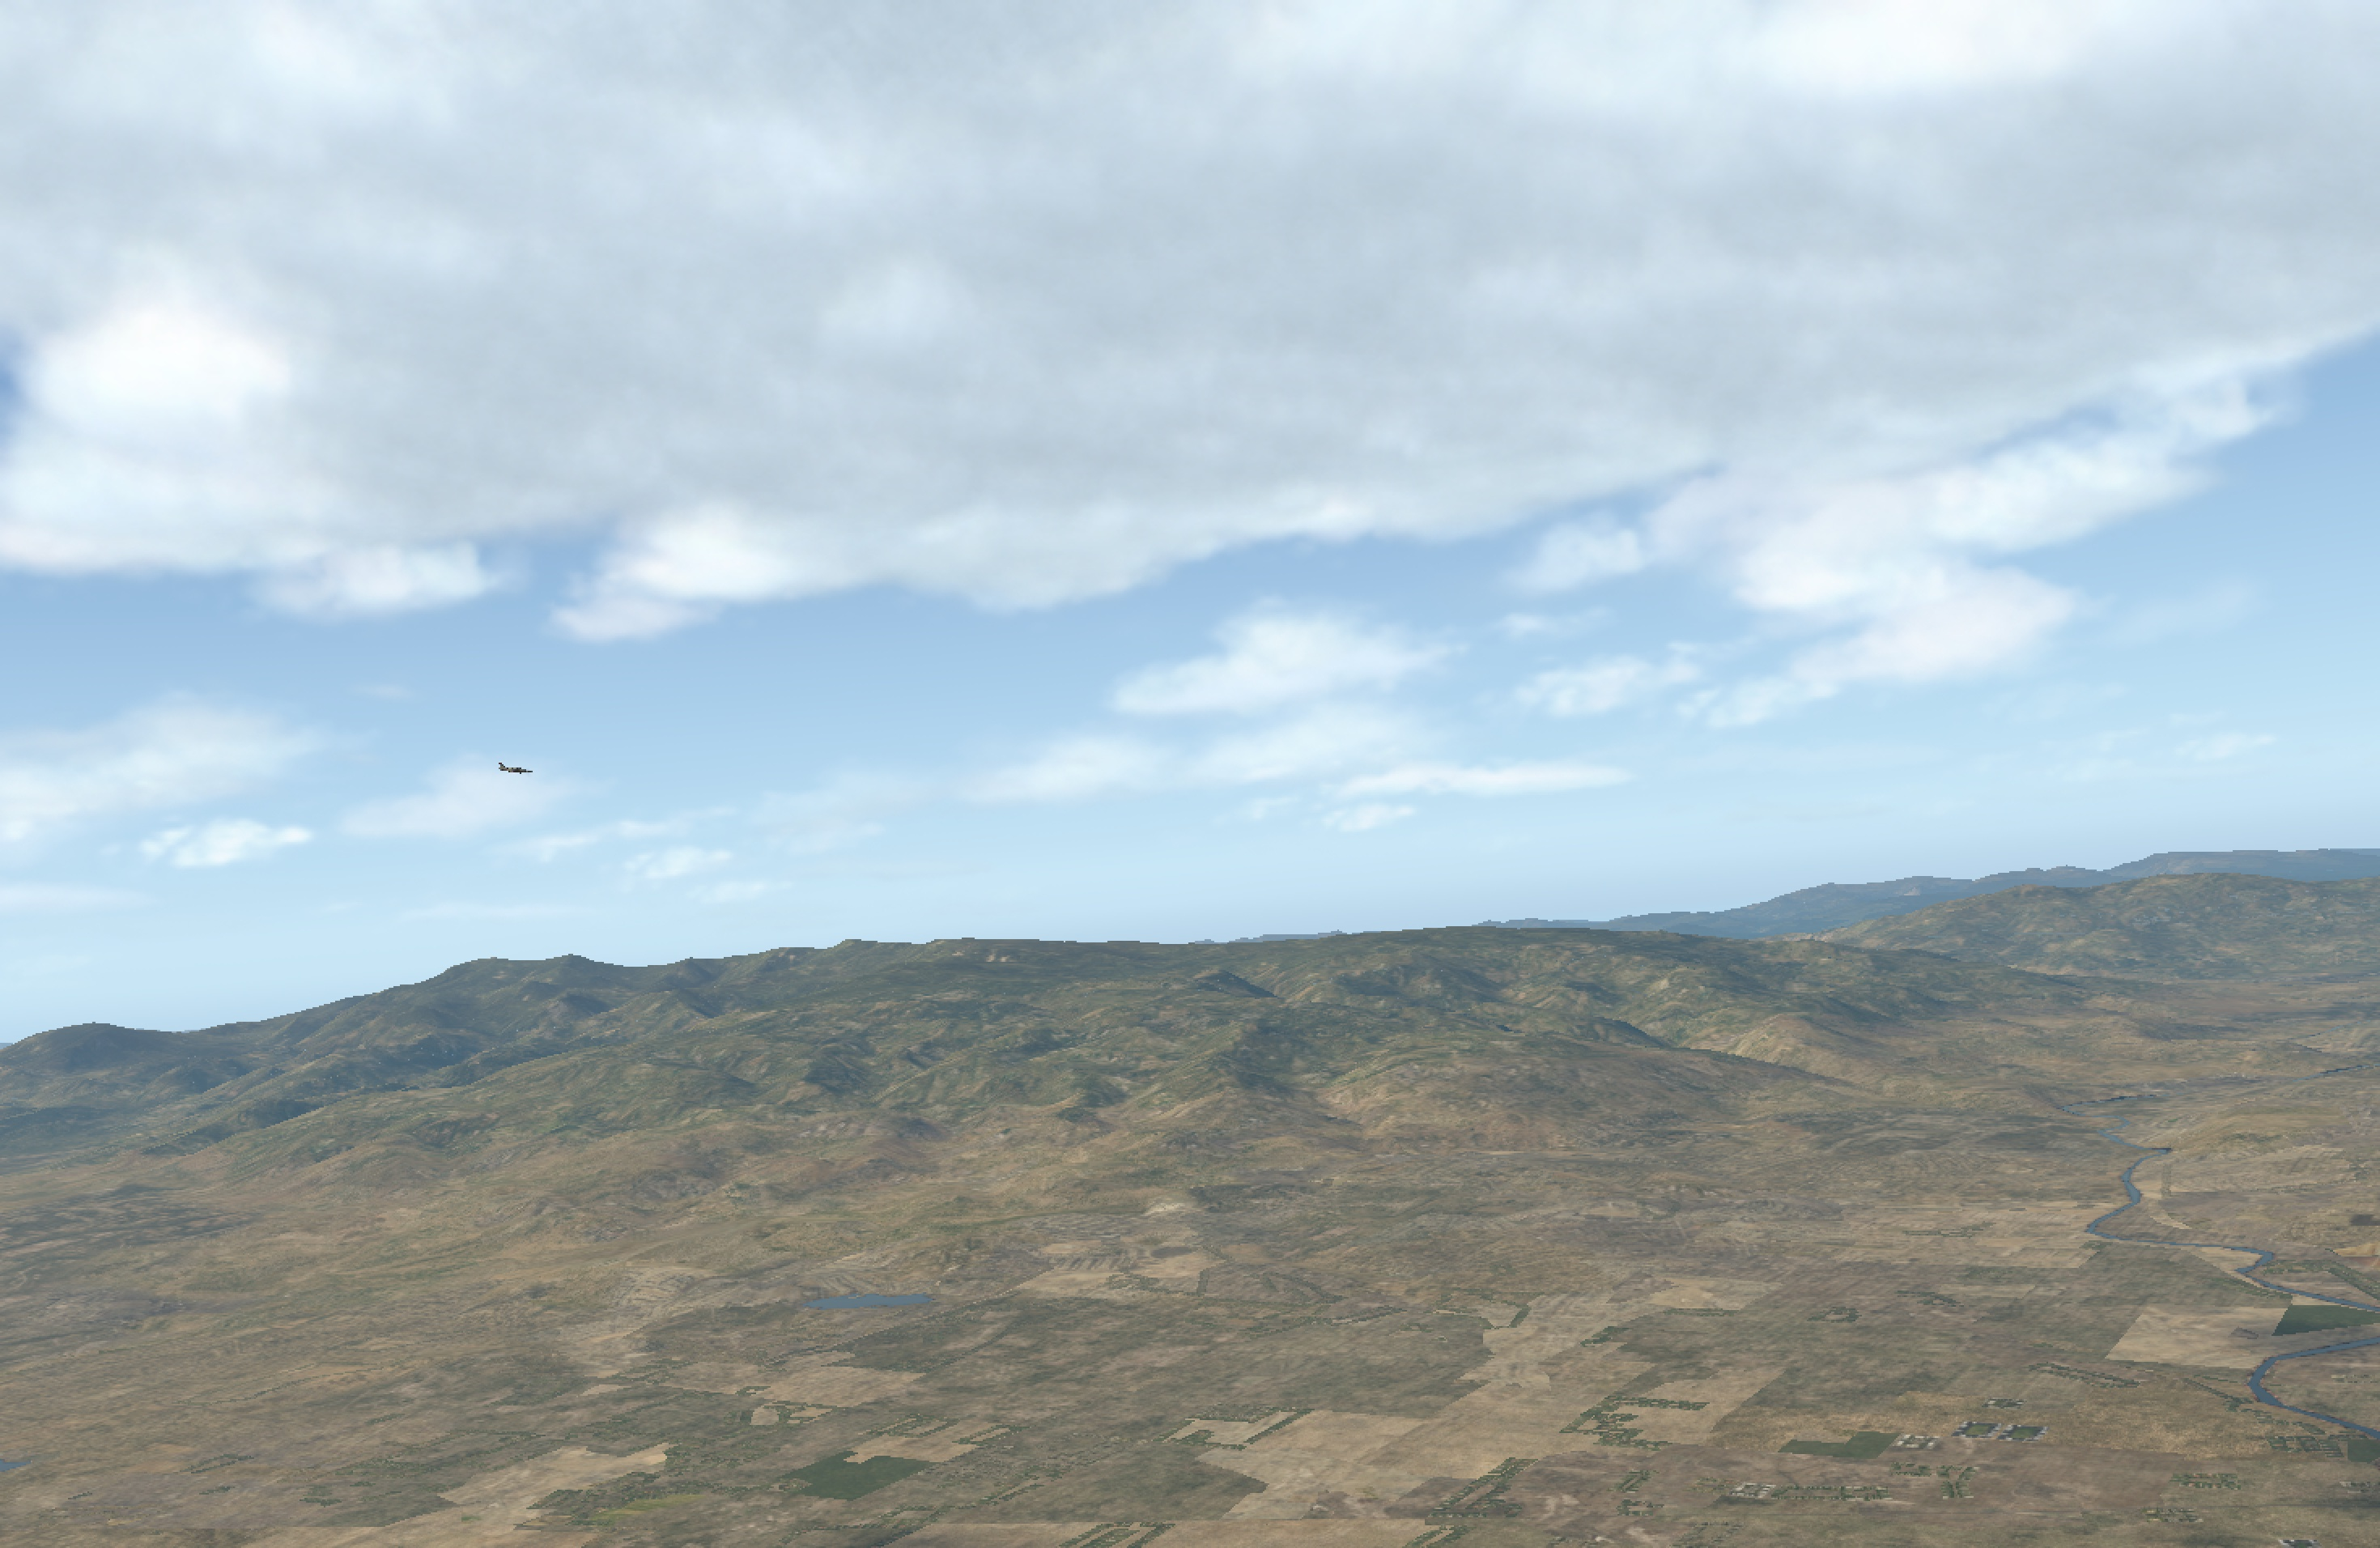aircraft: (494, 764, 539, 781)
